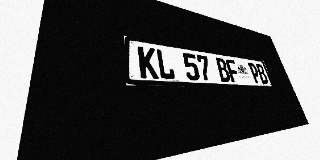5: (182, 53, 201, 81)
7: (195, 54, 213, 81)
B: (215, 57, 232, 82), (255, 63, 269, 84)
F: (225, 59, 241, 83)
K: (137, 46, 159, 79)
L: (155, 49, 176, 80)
P: (247, 62, 262, 84)
